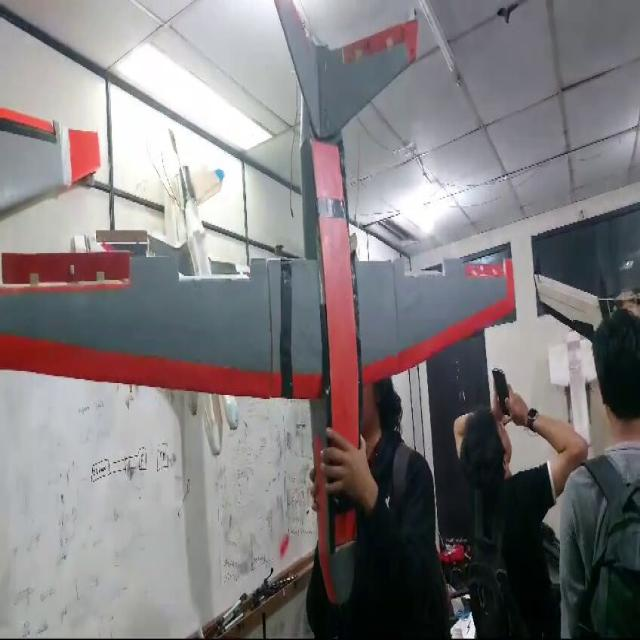plane: (0, 0, 517, 608)
